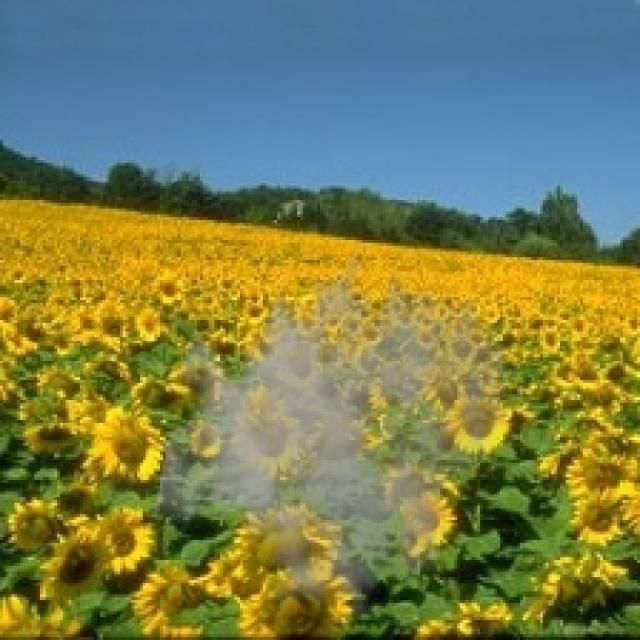Smoke: (152, 234, 514, 623)
